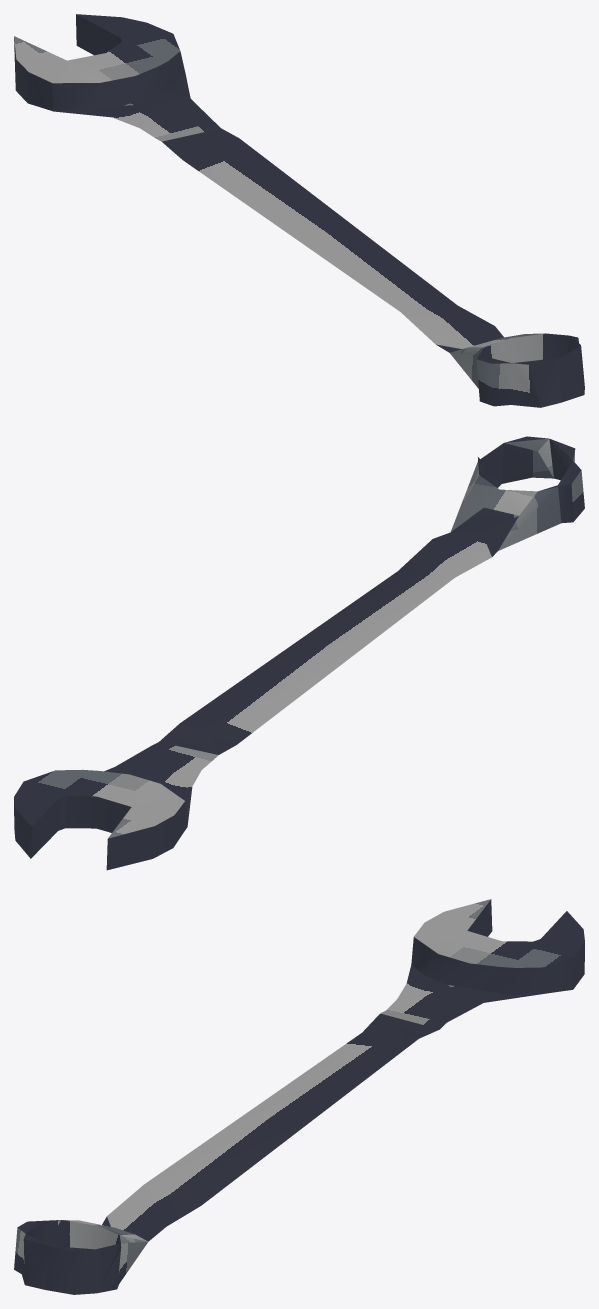
File: combination_wrench.glb
3 renders of one model, top to bottom at view 1: azimuth 30°, elevation 25°; view 2: azimuth 150°, elevation 25°; view 3: azimuth 330°, elevation 25°, orthographic.
Parts seen in each view (by area): view 1: mesh; view 2: mesh; view 3: mesh.
Part boxes in pixels (x1,y1,x2,y2): mesh: [14, 14, 584, 407]; mesh: [14, 436, 584, 870]; mesh: [14, 899, 584, 1294].
Size of the model in its own units: 0.0566 by 0.0215 by 0.3342.
Materials: 1 (1 with a texture image).
